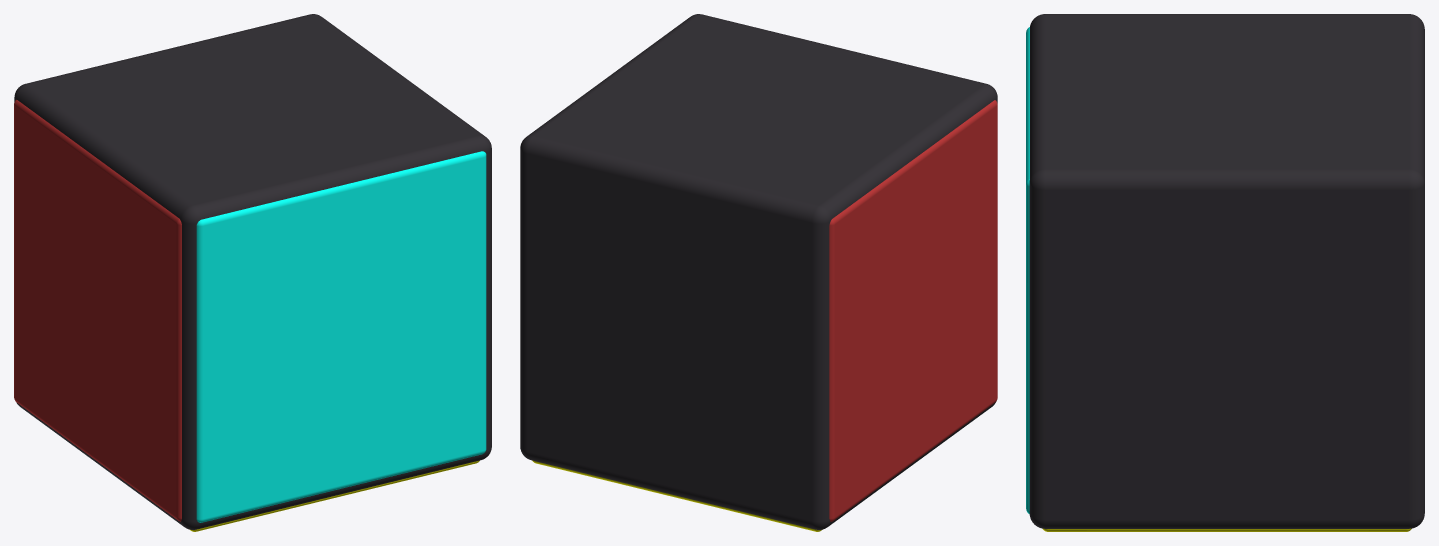
Rendered from yrbCorner.obj.
3 renders of one model, left to right at view 1: azimuth 30°, elevation 25°; view 2: azimuth 150°, elevation 25°; view 3: azimuth 270°, elevation 25°, orthographic. The views are drawn at different scales.
Parts seen in each view (by area): view 1: 003_blue_(face), 000_Base, 001_red, 002_yellow; view 2: 000_Base, 001_red, 002_yellow; view 3: 000_Base, 003_blue_(face), 002_yellow.
Part boxes in pixels (x1,y1,x2,y2): 003_blue_(face): (196, 151, 486, 522); 000_Base: (14, 14, 491, 529); 001_red: (14, 99, 181, 521); 002_yellow: (190, 460, 479, 531); 000_Base: (520, 14, 997, 529); 001_red: (829, 100, 997, 521); 002_yellow: (532, 460, 822, 531); 000_Base: (1029, 14, 1424, 528); 003_blue_(face): (1026, 27, 1029, 513); 002_yellow: (1043, 528, 1411, 531).
Bounding box in the file's own units: 101 × 101 × 101.
